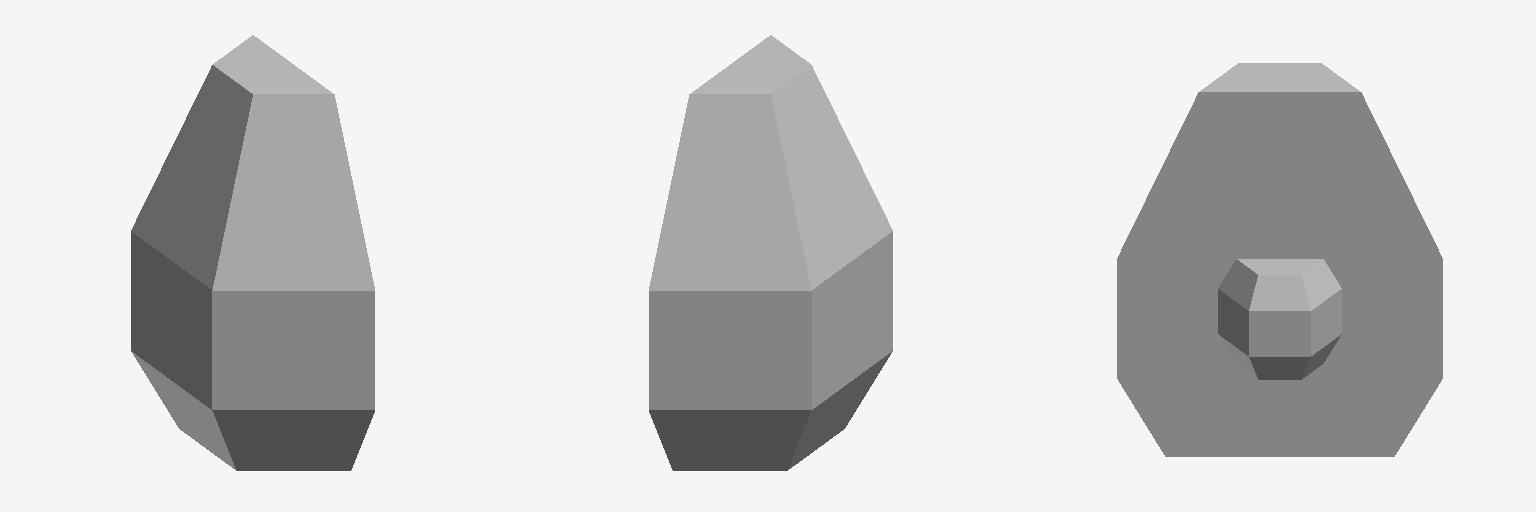
The model's file is advocado-half.obj.
The picture shows the model from 3 angles: view 1: azimuth 30°, elevation 25°; view 2: azimuth 150°, elevation 25°; view 3: azimuth 270°, elevation 25°; orthographic projection.
Parts seen in each view (by area): view 1: advocado-half; view 2: advocado-half; view 3: advocado-half, pit.
Boxes of the visible parts, x1=… form: advocado-half: x1=131, y1=35, x2=374, y2=470; advocado-half: x1=649, y1=35, x2=892, y2=470; advocado-half: x1=1117, y1=63, x2=1442, y2=456; pit: x1=1218, y1=259, x2=1341, y2=379.
Bounding box in the file's own units: 0.1036 × 0.2137 × 0.1734.